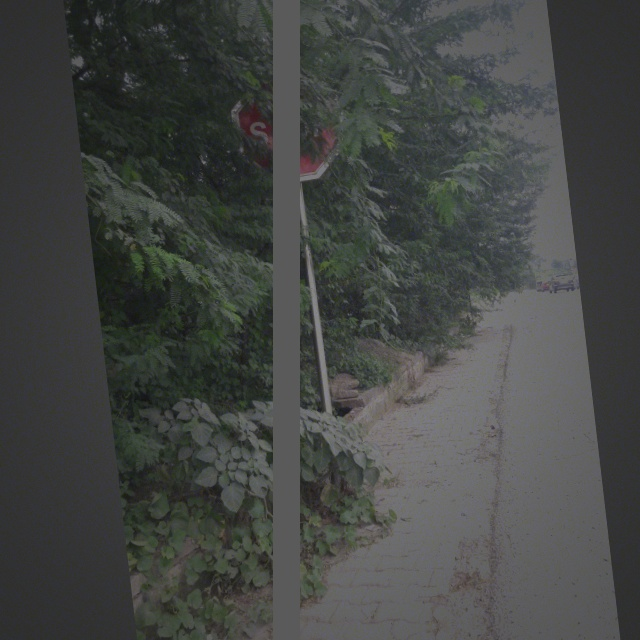Stop: (228, 76, 341, 189)
